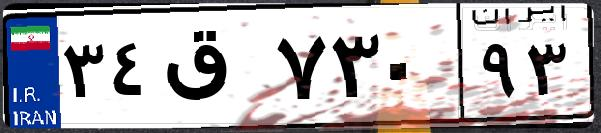0: (385, 28, 445, 110)
3: (330, 28, 385, 110), (57, 26, 110, 100), (525, 38, 570, 115)
4: (110, 28, 158, 98)
7: (270, 28, 330, 110)
9: (475, 38, 525, 113)
ق: (158, 20, 270, 120)
